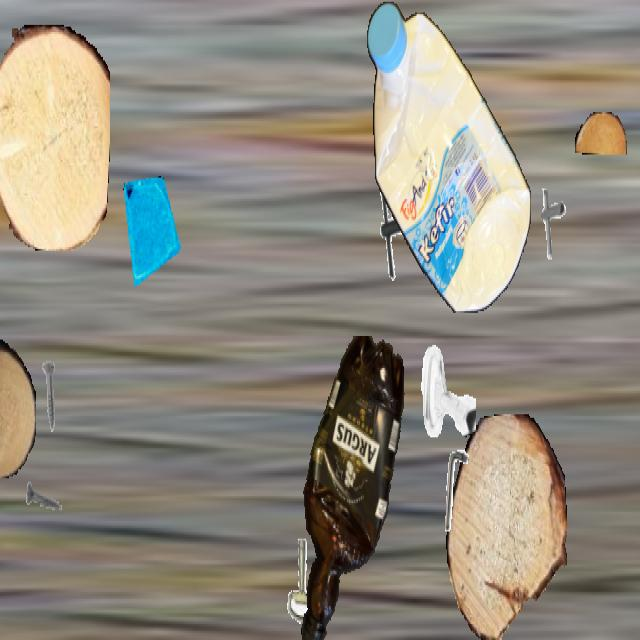glass: (120, 176, 184, 290)
metal: (369, 176, 429, 283), (418, 340, 476, 442), (277, 532, 333, 631), (431, 442, 485, 538), (529, 183, 573, 261), (29, 359, 71, 434), (25, 459, 67, 533)
plastic: (367, 2, 531, 311), (291, 336, 411, 638)
wood: (446, 414, 566, 638), (0, 25, 109, 249), (0, 340, 36, 478), (575, 112, 627, 155)
